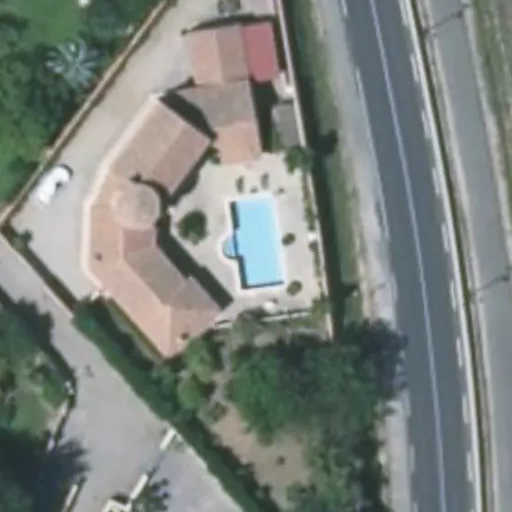pool: (215, 202, 289, 284)
